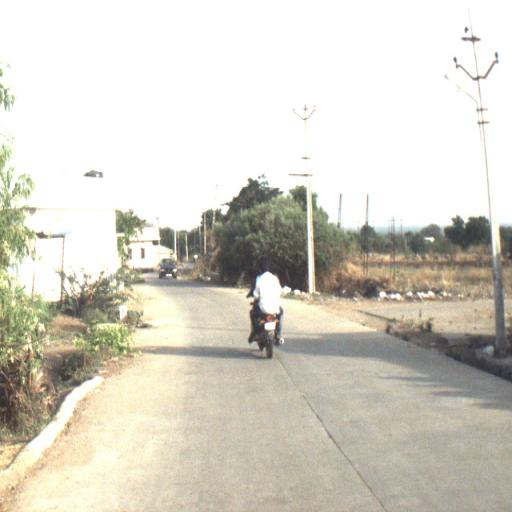street_light_0: (444, 73, 490, 142)
